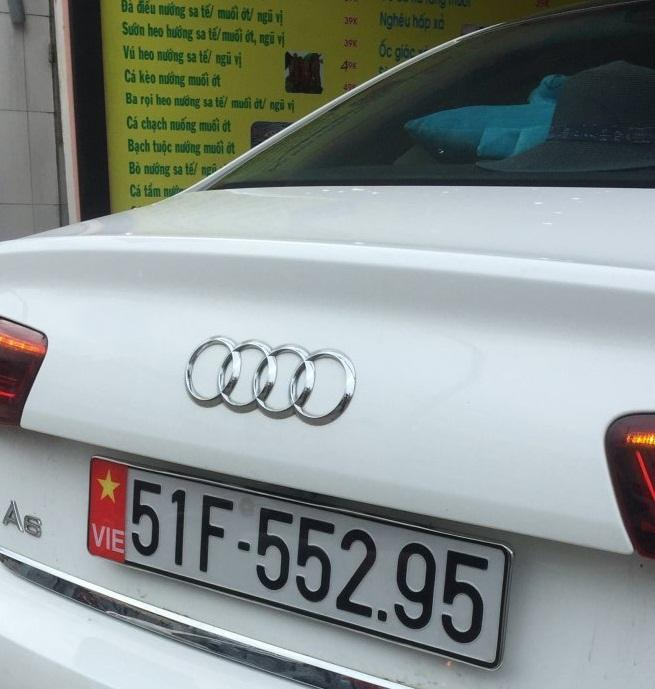numplate: (80, 451, 513, 670)
